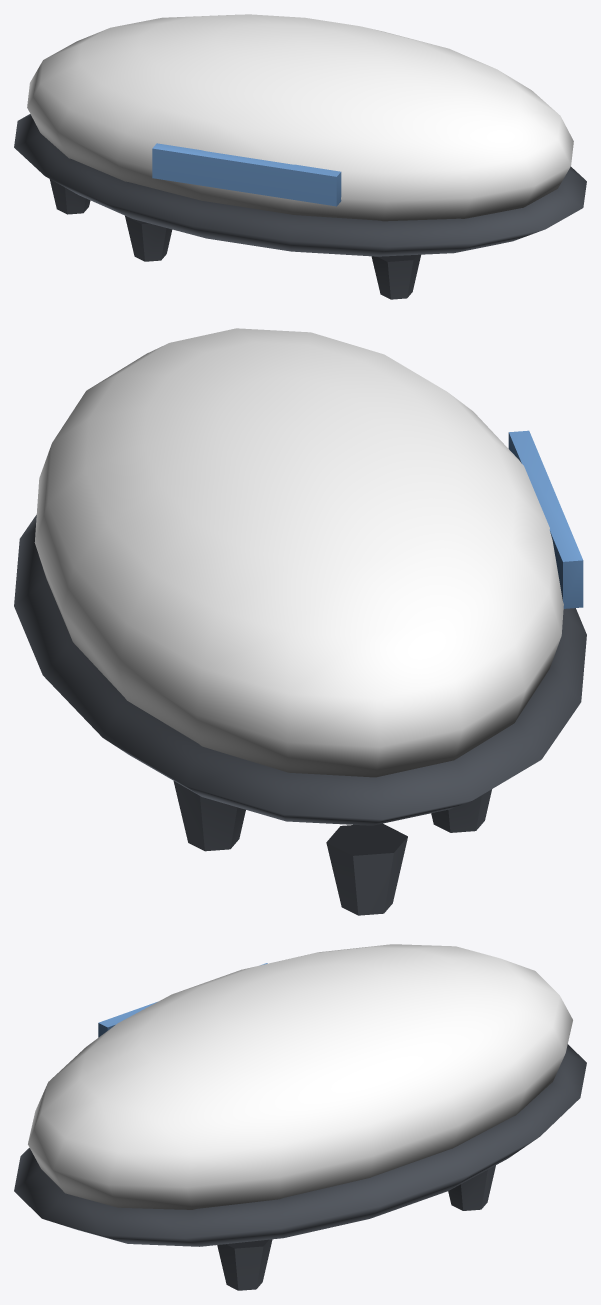
The model's file is football_feet.fbx.
The picture shows the model from 3 angles, top to bottom: view 1: azimuth 30°, elevation 25°; view 2: azimuth 150°, elevation 25°; view 3: azimuth 270°, elevation 25°; orthographic projection. The views are drawn at different scales.
Parts seen in each view (by area): view 1: football_feet; view 2: football_feet; view 3: football_feet.
Part boxes in pixels (x1,y1,x2,y2): football_feet: (14, 14, 586, 299); football_feet: (14, 328, 586, 915); football_feet: (14, 944, 586, 1290).
Bounding box in the file's own units: 0.7189 × 0.335 × 0.781.
